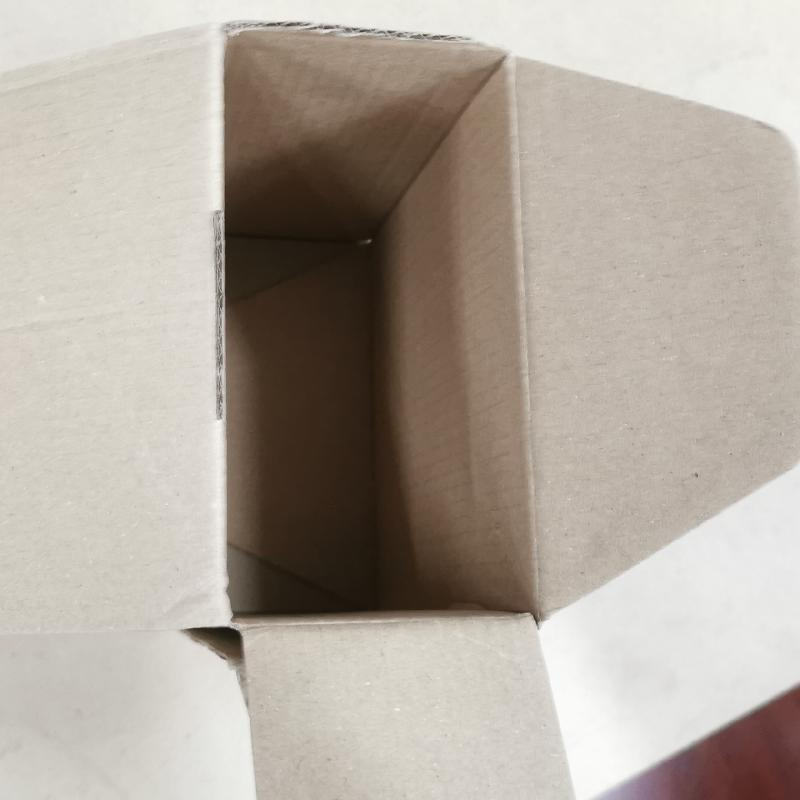boxes: (3, 17, 799, 791)
